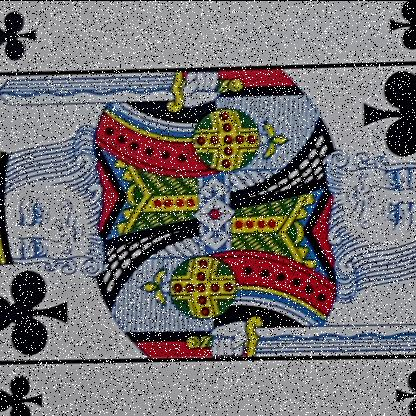Kc: (0, 1, 55, 77), (0, 354, 64, 415)
